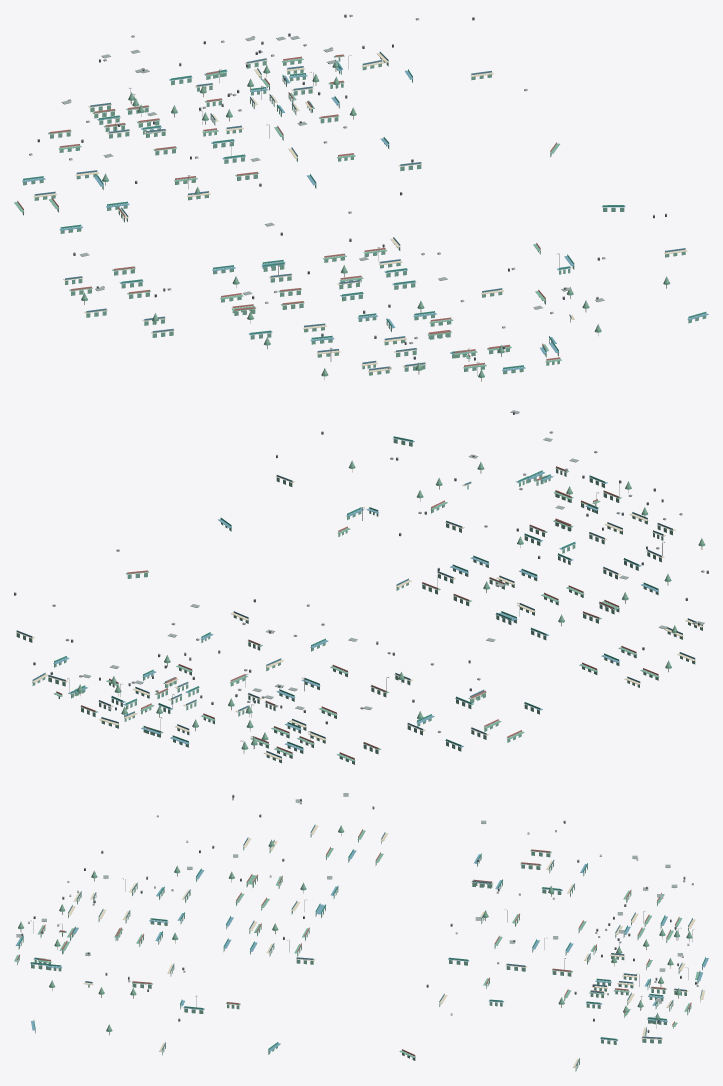
3 views of the same model, one above another, from view 1: azimuth 30°, elevation 25°; view 2: azimuth 150°, elevation 25°; view 3: azimuth 270°, elevation 25° (orthographic). The views are drawn at different scales.
Parts seen in each view (by area): view 1: Station neighborhood architectural details; view 2: Station neighborhood architectural details; view 3: Station neighborhood architectural details.
Boxes of the visible parts, x1=… form: Station neighborhood architectural details: x1=14, y1=14, x2=708, y2=381; Station neighborhood architectural details: x1=14, y1=410, x2=708, y2=764; Station neighborhood architectural details: x1=14, y1=793, x2=708, y2=1071.
Size of the model in its own units: 295 by 33.9 by 357.
